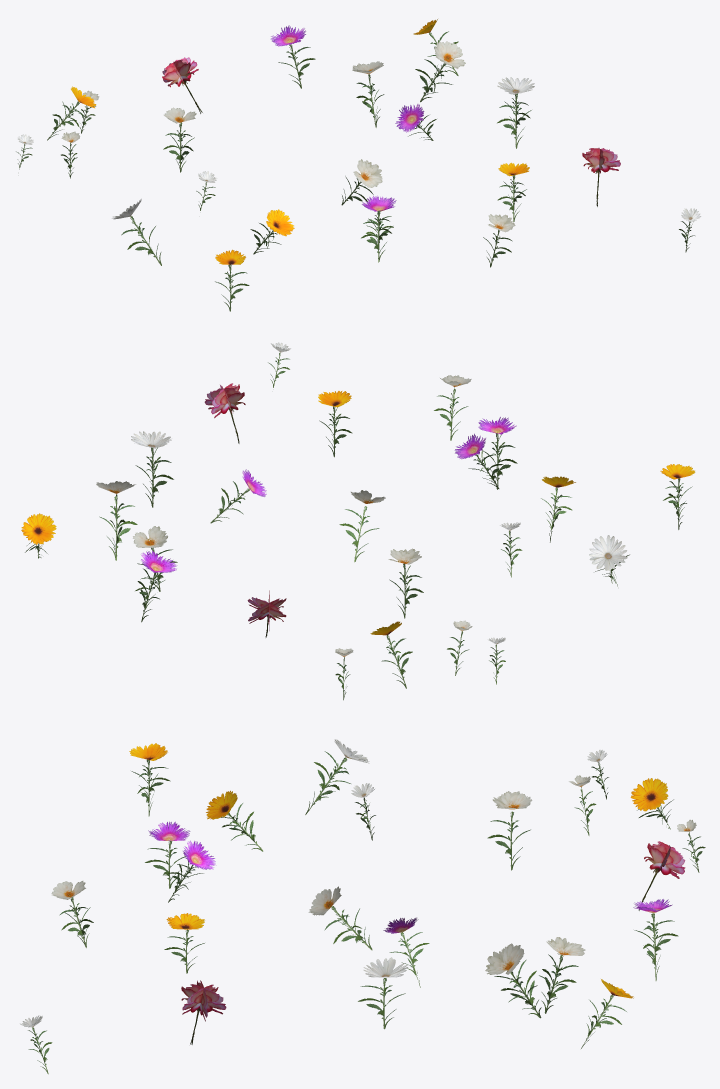
File: SM_Flowers_03.glb
3 views of the same model, one above another, from view 1: azimuth 30°, elevation 25°; view 2: azimuth 150°, elevation 25°; view 3: azimuth 270°, elevation 25° (orthographic). The views are drawn at different scales.
Parts seen in each view (by area): view 1: SM_Flowers_03; view 2: SM_Flowers_03; view 3: SM_Flowers_03.
Part boxes in pixels (x1,y1,x2,y2): SM_Flowers_03: (16, 19, 700, 311); SM_Flowers_03: (21, 342, 695, 700); SM_Flowers_03: (20, 739, 705, 1074).
Size of the model in its own units: 2.66 by 0.4542 by 2.82.
1 material, 1 textured.
